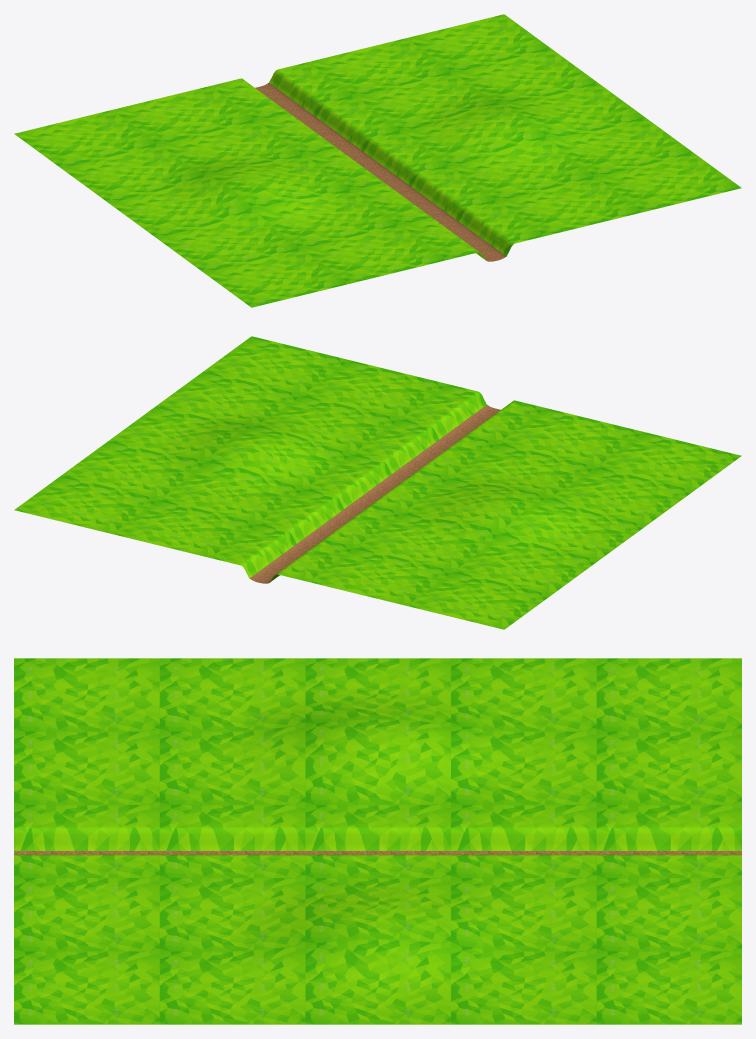
Rendered from 21_02_Map_Empty_1.fbx.
3 views of the same model, one above another, from view 1: azimuth 30°, elevation 25°; view 2: azimuth 150°, elevation 25°; view 3: azimuth 270°, elevation 25° (orthographic). The views are drawn at different scales.
Parts seen in each view (by area): view 1: TestPlane; view 2: TestPlane; view 3: TestPlane.
Part boxes in pixels (<box>): TestPlane: <box>14,14,741,307</box>; TestPlane: <box>14,336,741,629</box>; TestPlane: <box>14,658,741,1024</box>.
Size of the model in its own units: 5934 by 255 by 4980.
2 materials, 2 textured.
